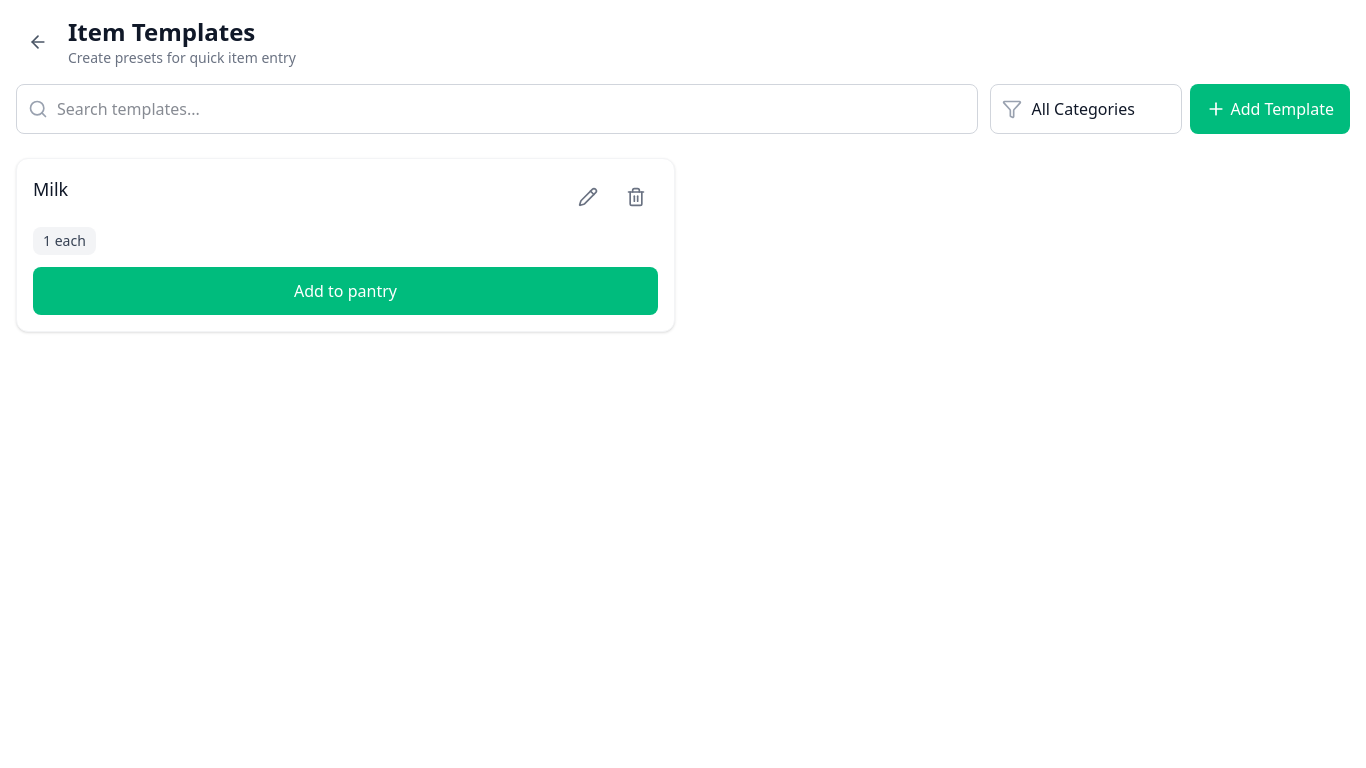
TemplatesPage CRUD failures › shows an error when delete mutate rejects and keeps the confirm dialog open
What coordinates should you click on to do the following:
click the button named "delete milk"
I would click on:
 (636, 197)
Its box is [614,175,658,219].
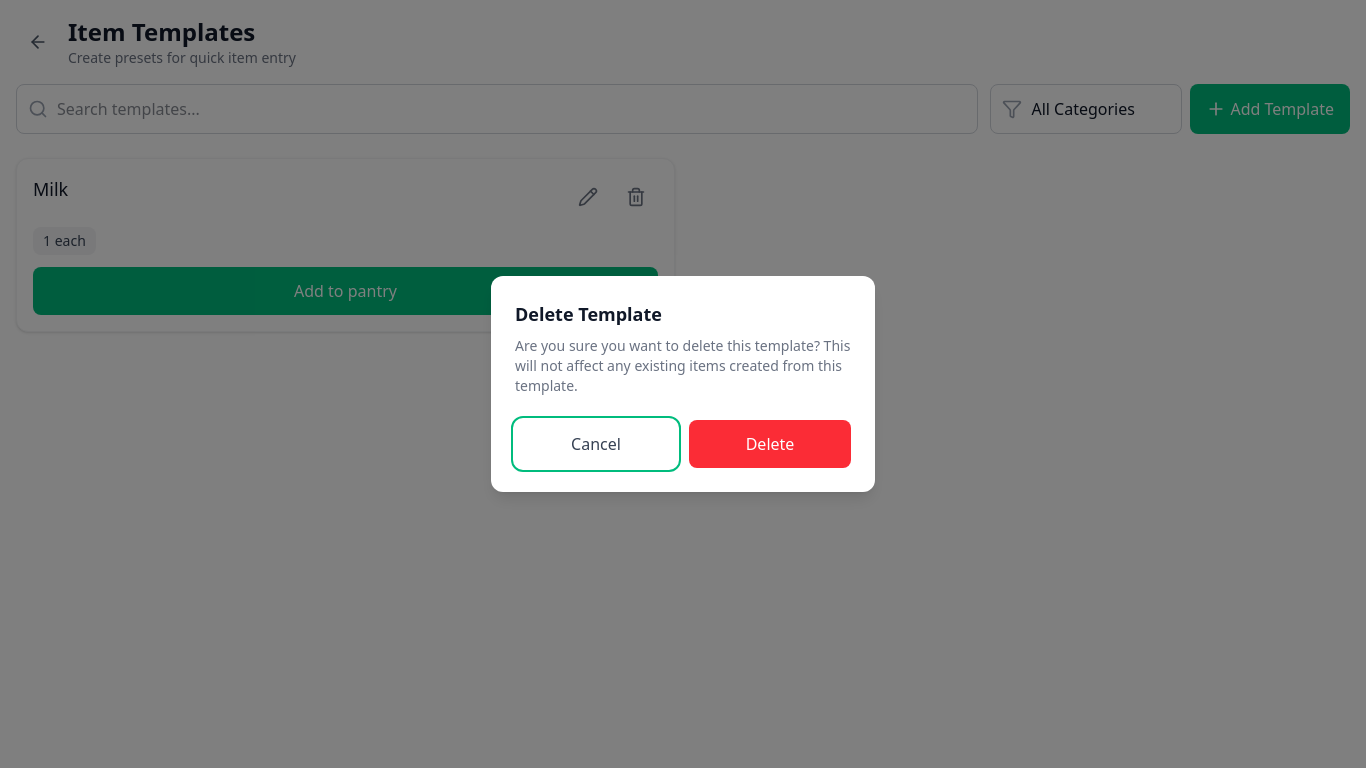
Check: the text "will not affect any existing items" is shown, box [515,336,850,395]
What coordinates should you click on to do the following:
click the button "Delete"
I would click on:
 (770, 444)
Its box is [689,420,851,468].
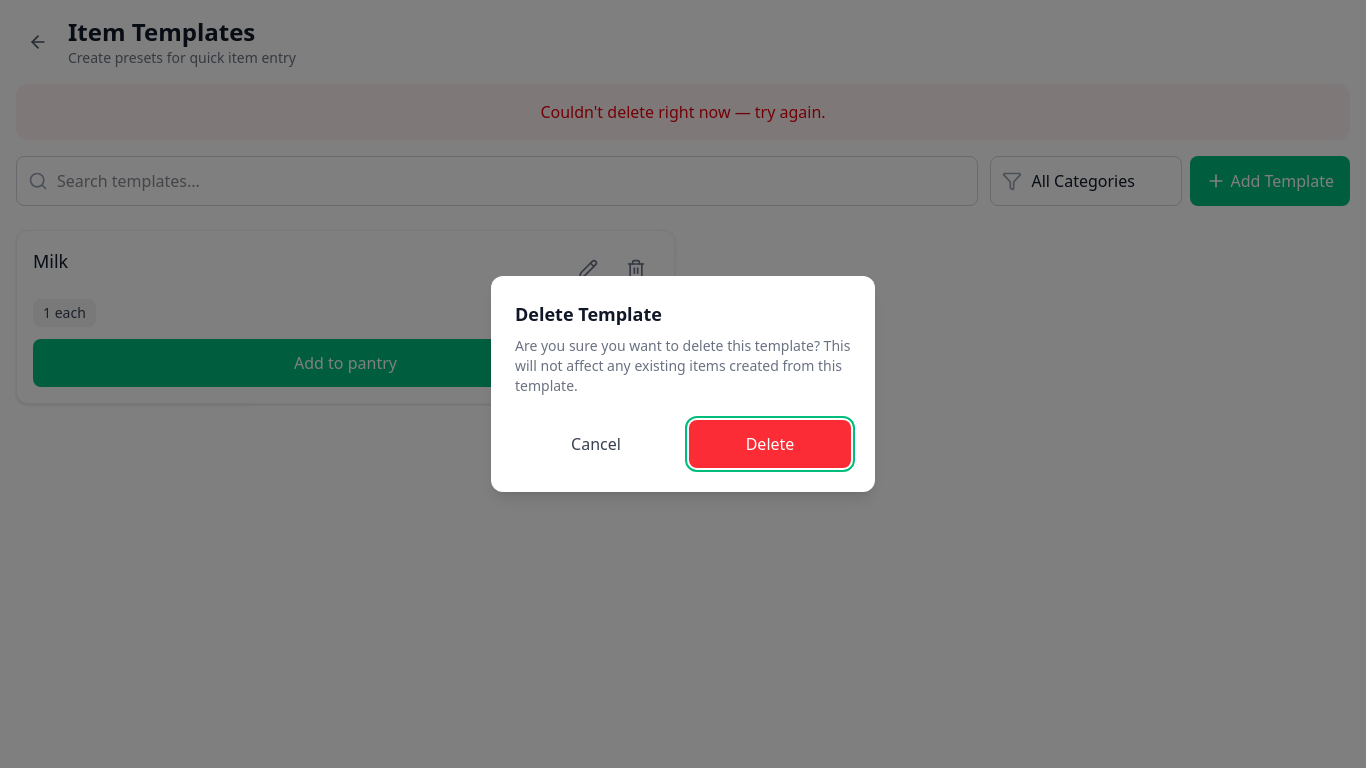
Check: the text "will not affect any existing items" is shown, box [515,336,850,395]
Check: the text "Couldn't delete right now — try again." is shown, box [540,101,826,123]
